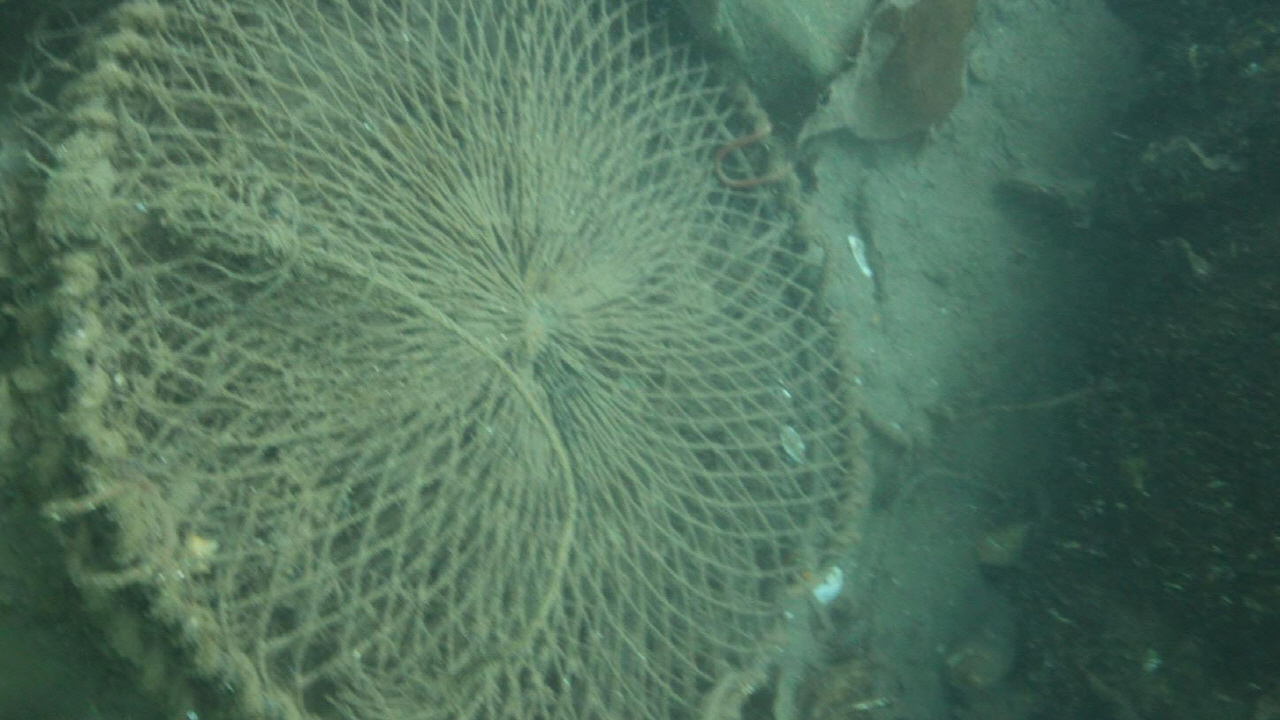circular fish trap: (7, 1, 876, 720)
